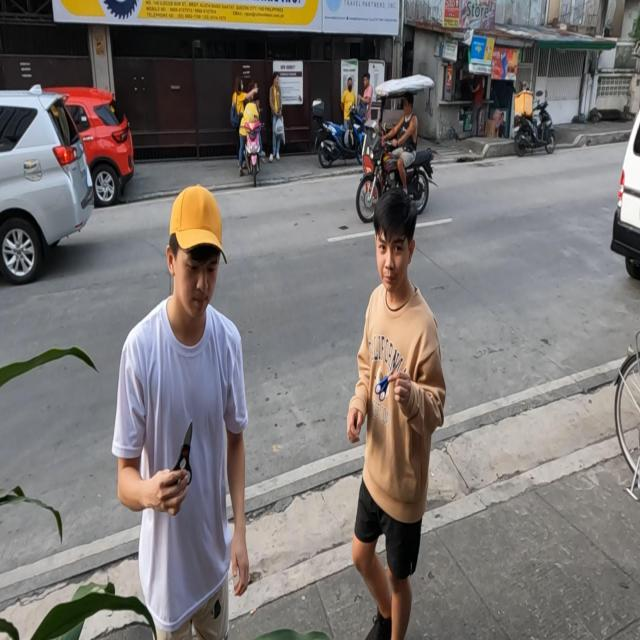scissor: (166, 420, 193, 484), (375, 357, 403, 402)
